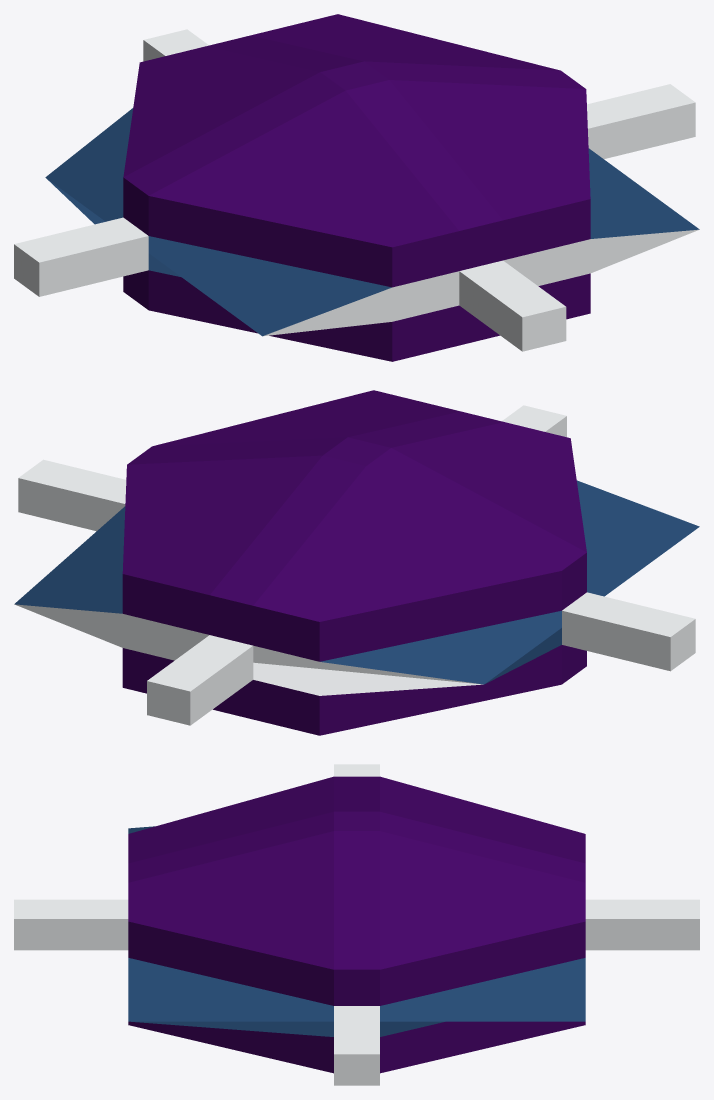
Rendered from enemy_rotating_ship.gltf.
The picture shows the model from 3 angles, top to bottom: view 1: azimuth 30°, elevation 25°; view 2: azimuth 150°, elevation 25°; view 3: azimuth 270°, elevation 25°; orthographic projection. The views are drawn at different scales.
Parts seen in each view (by area): view 1: rotating_enemy_ship; view 2: rotating_enemy_ship; view 3: rotating_enemy_ship.
Part boxes in pixels (x1,y1,x2,y2): rotating_enemy_ship: (14,14,699,361); rotating_enemy_ship: (14,390,699,735); rotating_enemy_ship: (14,764,699,1085).
Bounding box in the file's own units: 3 × 1 × 3.
